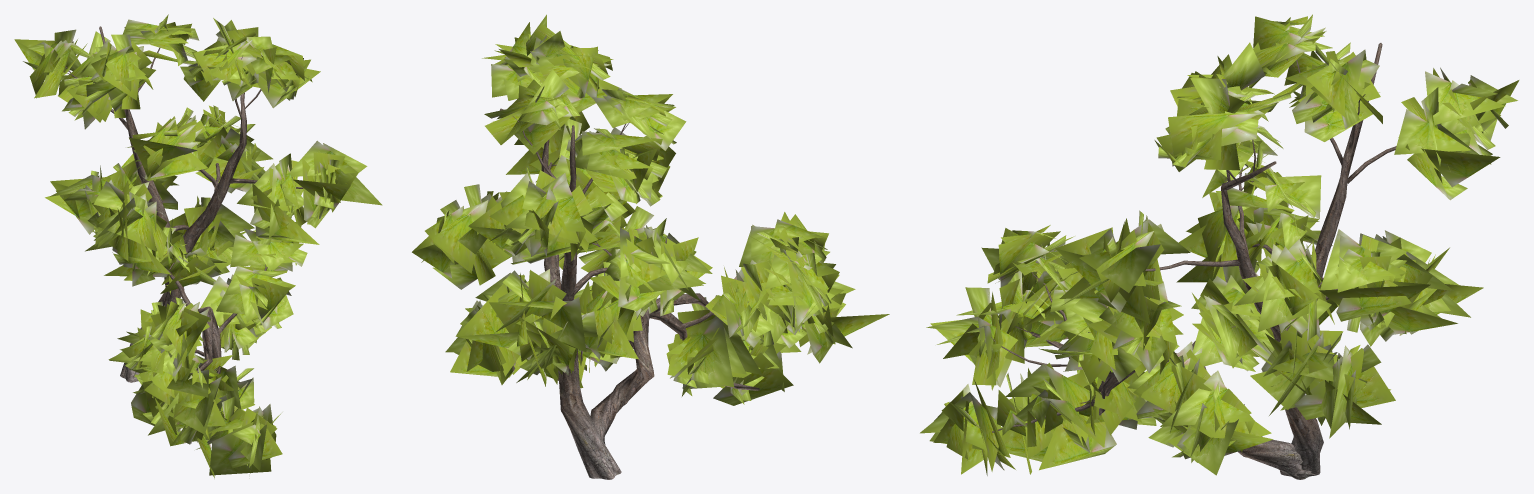
The model's file is tree.fbx.
3 renders of one model, left to right at view 1: azimuth 30°, elevation 25°; view 2: azimuth 150°, elevation 25°; view 3: azimuth 270°, elevation 25°, orthographic. The views are drawn at different scales.
Visible parts, largest first — view 1: Tree_1, Tree_0; view 2: Tree_1, Tree_0; view 3: Tree_1, Tree_0.
Boxes of the visible parts, bbox=[...] form: Tree_1: bbox=[14, 14, 382, 478]; Tree_0: bbox=[63, 26, 303, 443]; Tree_1: bbox=[412, 14, 889, 405]; Tree_0: bbox=[500, 108, 785, 479]; Tree_1: bbox=[920, 14, 1519, 475]; Tree_0: bbox=[991, 43, 1396, 479].
Bounding box in the file's own units: 550 × 684 × 788.
2 materials, 2 textured.
